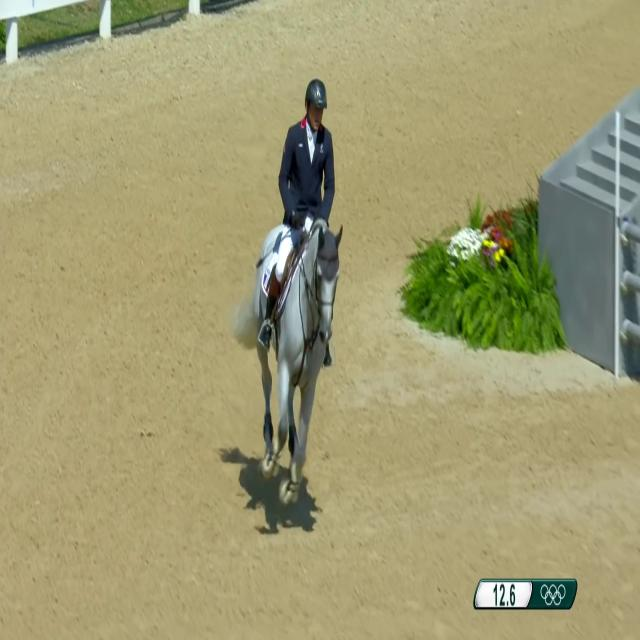Horse Rider: (273, 80, 341, 308)
Horse Running: (251, 212, 352, 536)
